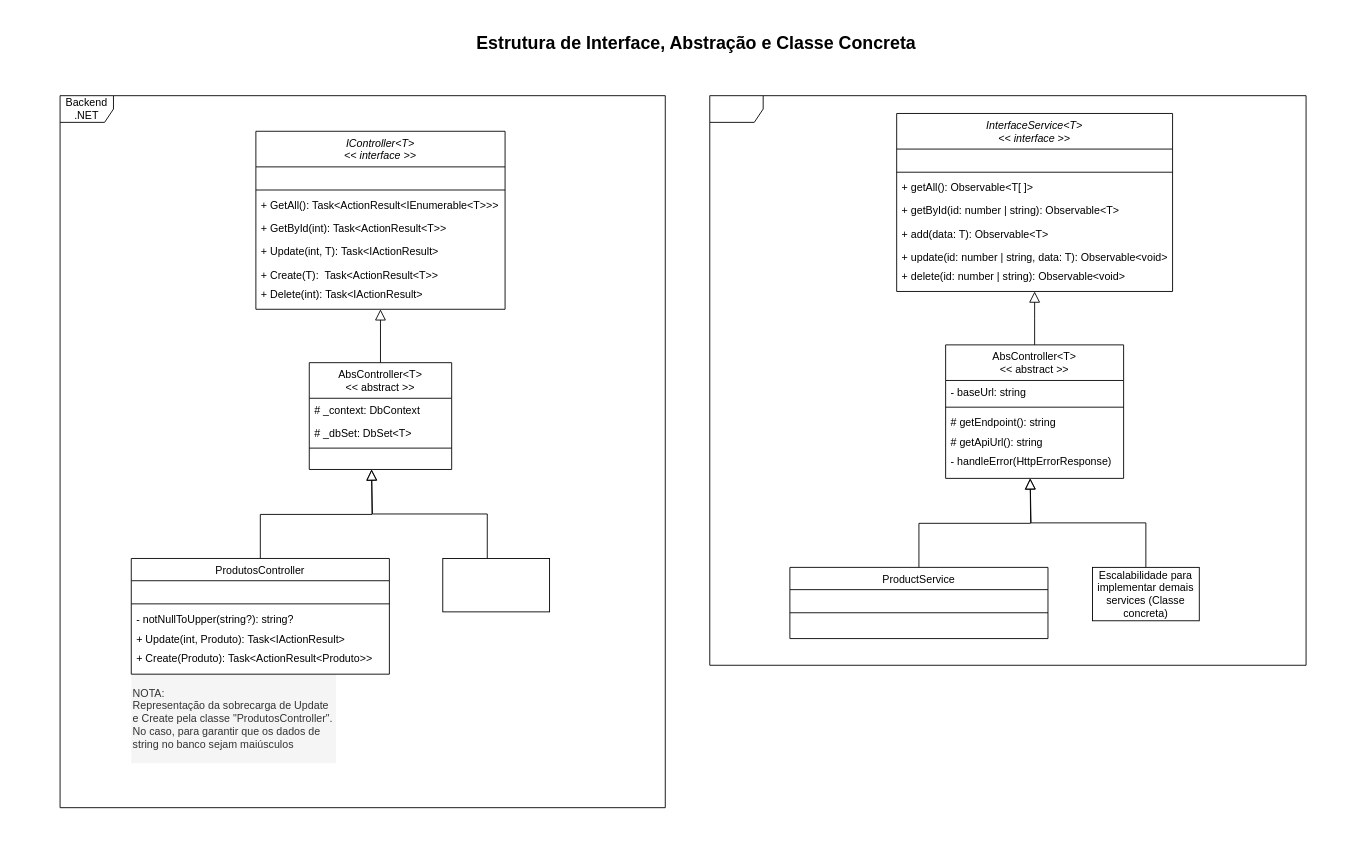
Some shapes in this 1356 by 858 pixel diagram are drawn without their labels. Here are the shapes that lost their labels. From the top down, the centre of each, then its label:
the point at 1007,380: Frontend Angular
the point at 496,585: Escalabilidade para implementar demais controllers (Classe concreta)
